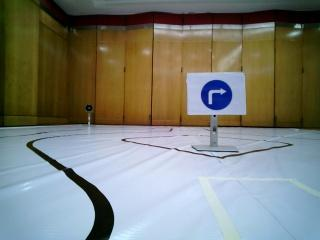right: (189, 74, 243, 114)
